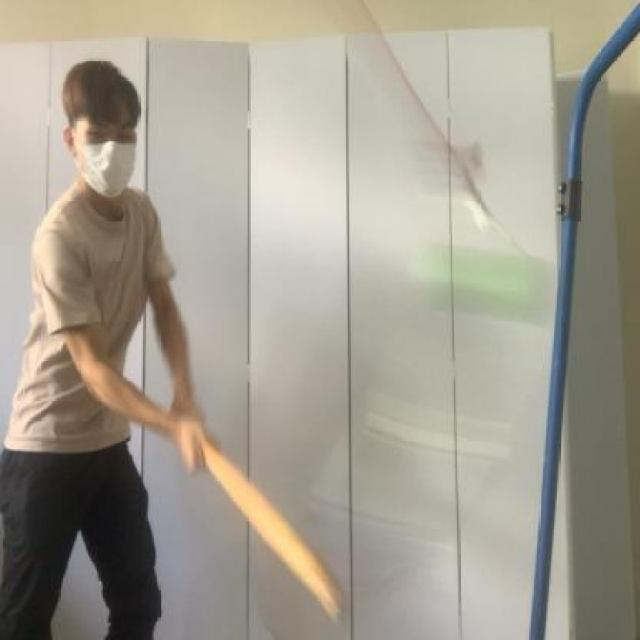baseball: (408, 228, 549, 352)
